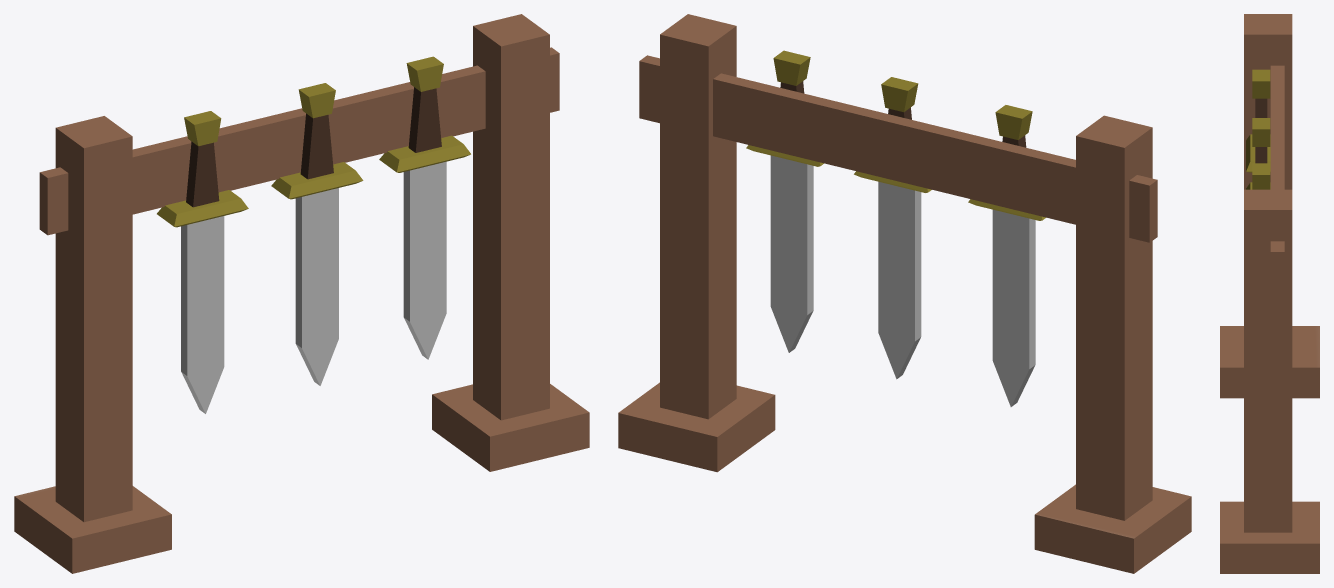
File: Rack.fbx
3 renders of one model, left to right at view 1: azimuth 30°, elevation 25°; view 2: azimuth 150°, elevation 25°; view 3: azimuth 270°, elevation 25°, orthographic. The views are drawn at different scales.
Visible parts, largest first — view 1: Rack_Geo; view 2: Rack_Geo; view 3: Rack_Geo.
Boxes of the visible parts, x1,y1,x2,y2 form: Rack_Geo: [14, 14, 589, 573]; Rack_Geo: [618, 14, 1191, 573]; Rack_Geo: [1220, 14, 1319, 573].
Bounding box in the file's own units: 85.01 × 64.3 × 16.49.
